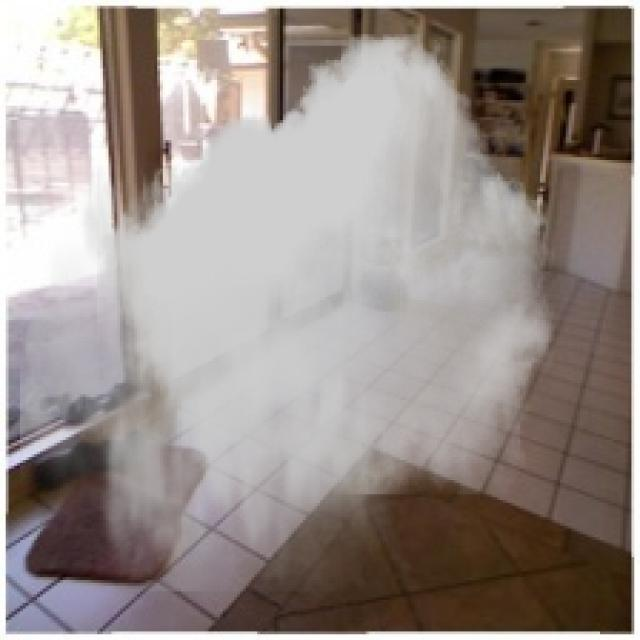Smoke: (19, 34, 554, 592)
